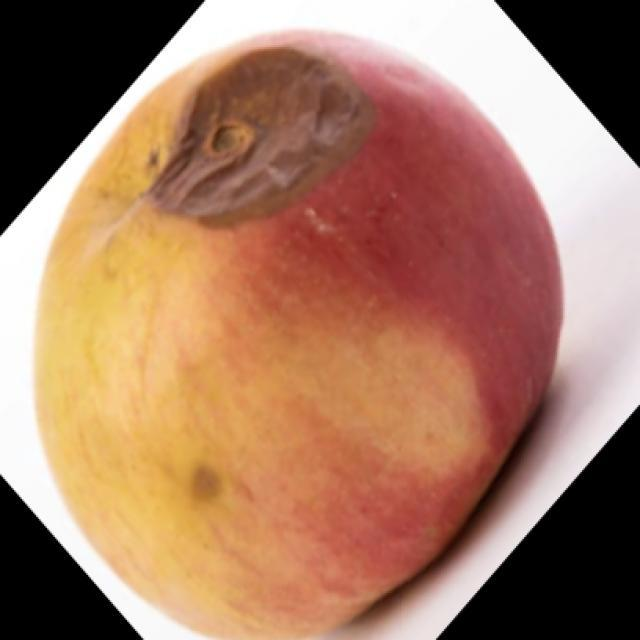Rotten: (46, 30, 556, 617)
